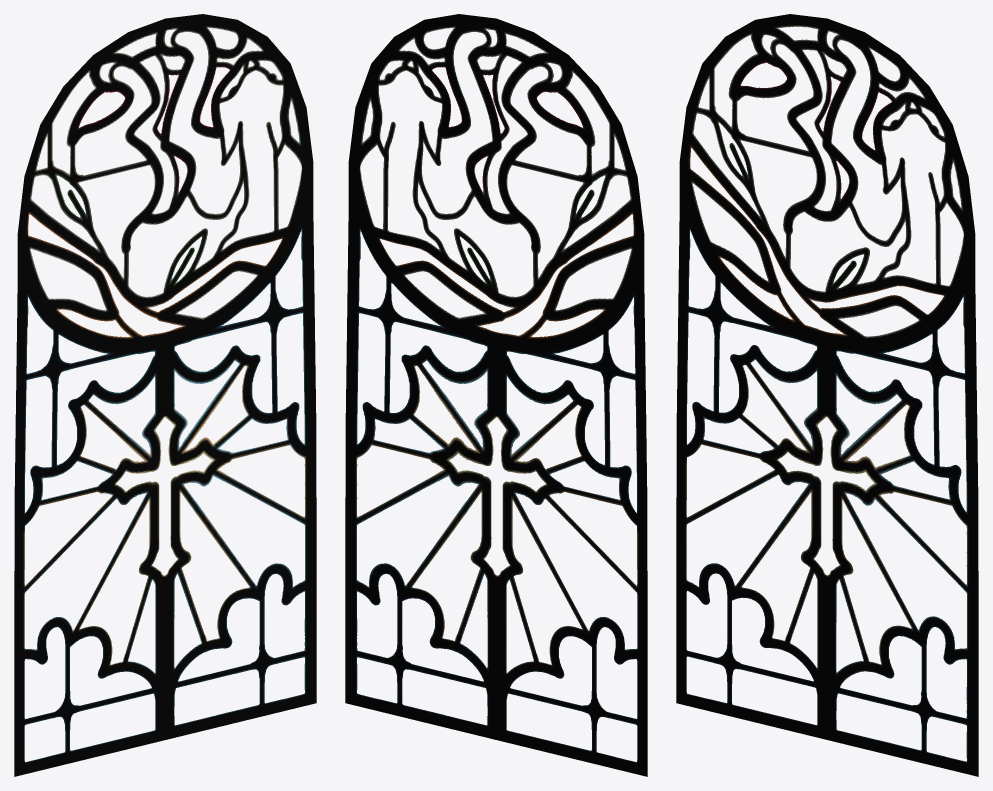
File: SM_WindowPane_Cat.fbx
3 renders of one model, left to right at view 1: azimuth 30°, elevation 25°; view 2: azimuth 150°, elevation 25°; view 3: azimuth 330°, elevation 25°, orthographic.
Visible parts, largest first — view 1: SM_WindowPane_Cat; view 2: SM_WindowPane_Cat; view 3: SM_WindowPane_Cat.
Part boxes in pixels (x1=…): SM_WindowPane_Cat: x1=14, y1=14, x2=316, y2=776; SM_WindowPane_Cat: x1=345, y1=14, x2=647, y2=776; SM_WindowPane_Cat: x1=676, y1=14, x2=978, y2=776.
Bounding box in the file's own units: 44.45 × 101 × 2.39e-05.
